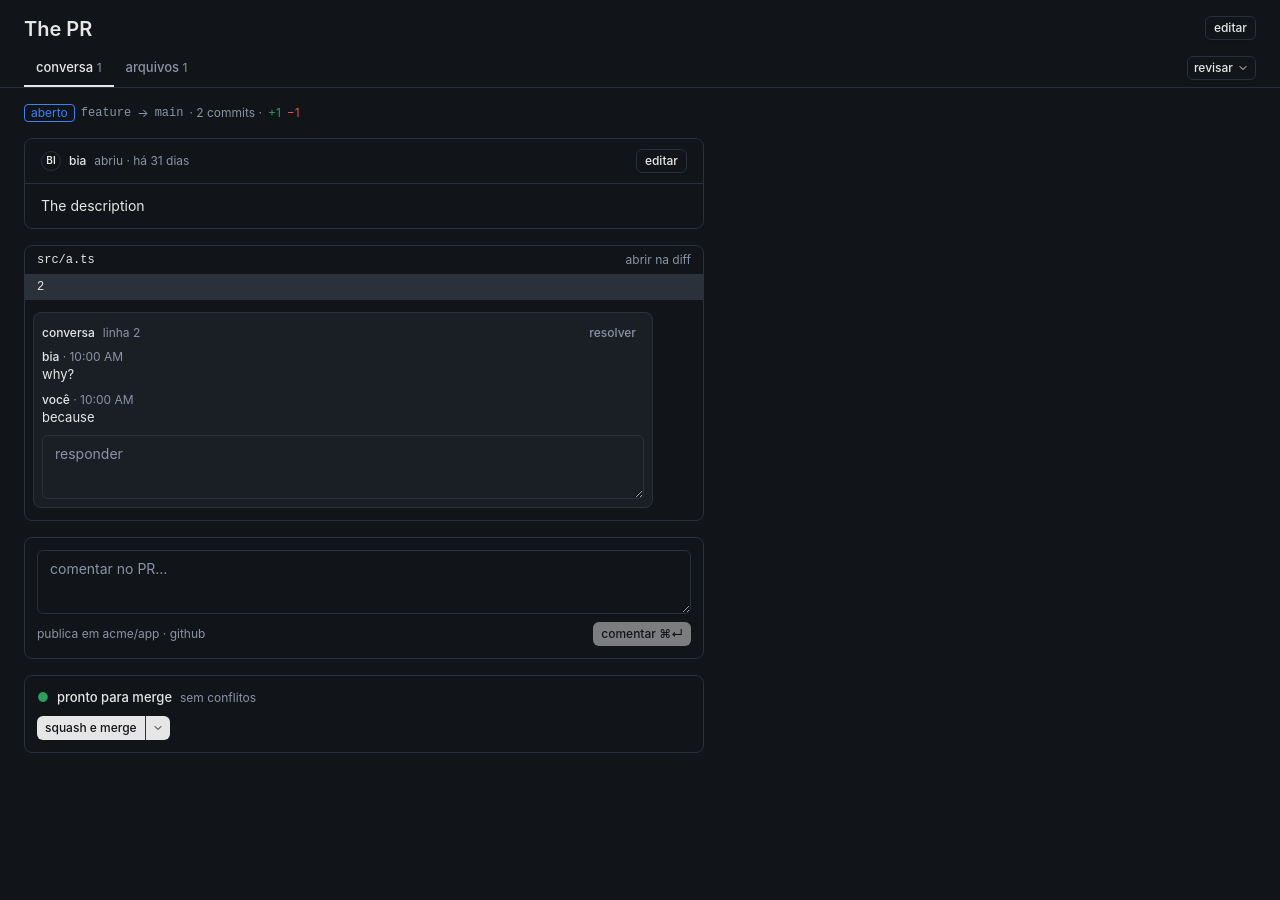
files draws the PR's files and conversations, a GitHub author by login and the viewer as você (#592, #758)
Click the tab "arquivos 1". click: (156, 68)
box: [114,50,199,87]
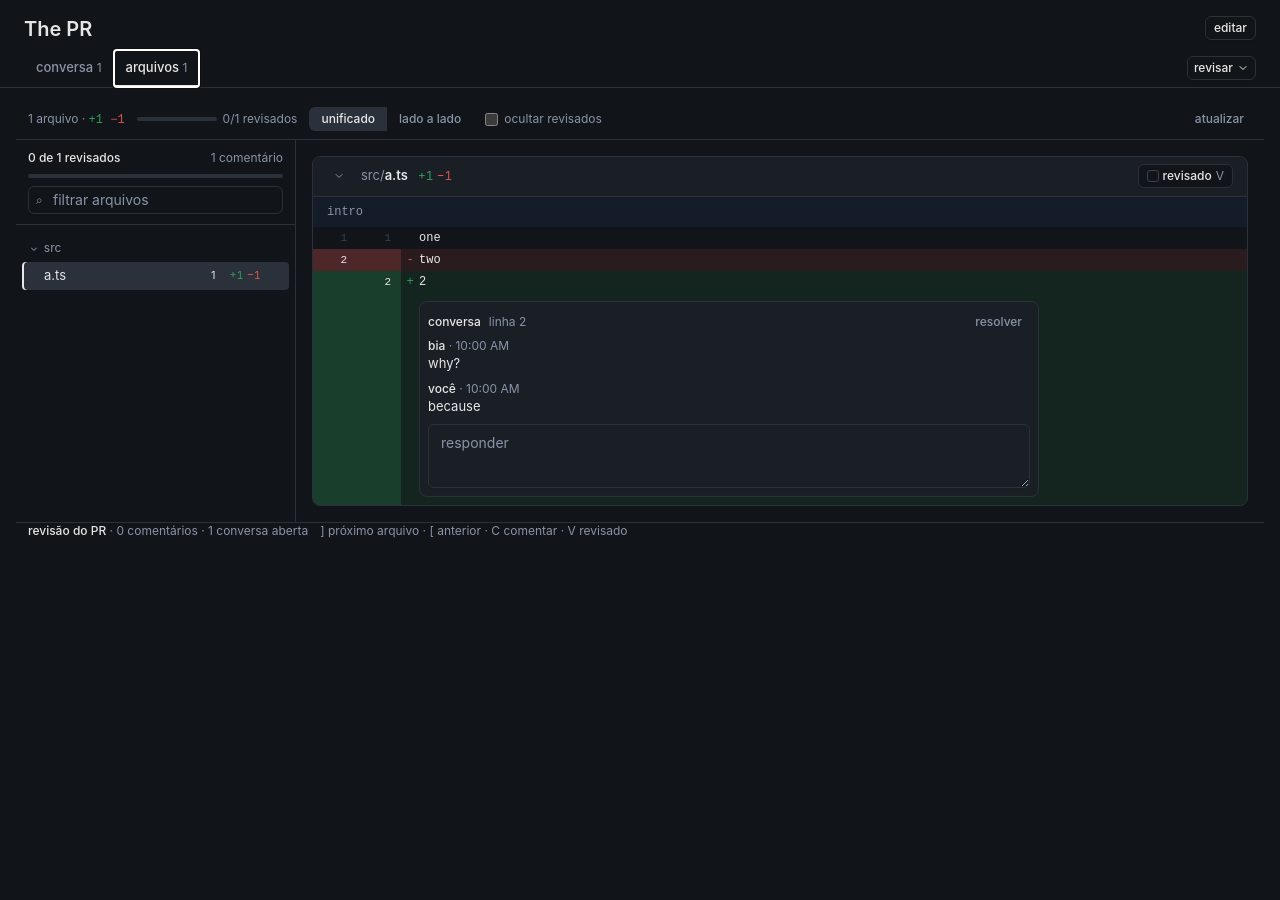
Expected: the text "você" is shown, [428,381,456,396]
Expected: the element named "arquivos" shows "1 arquivo · +1 −1", [16,100,1264,140]
